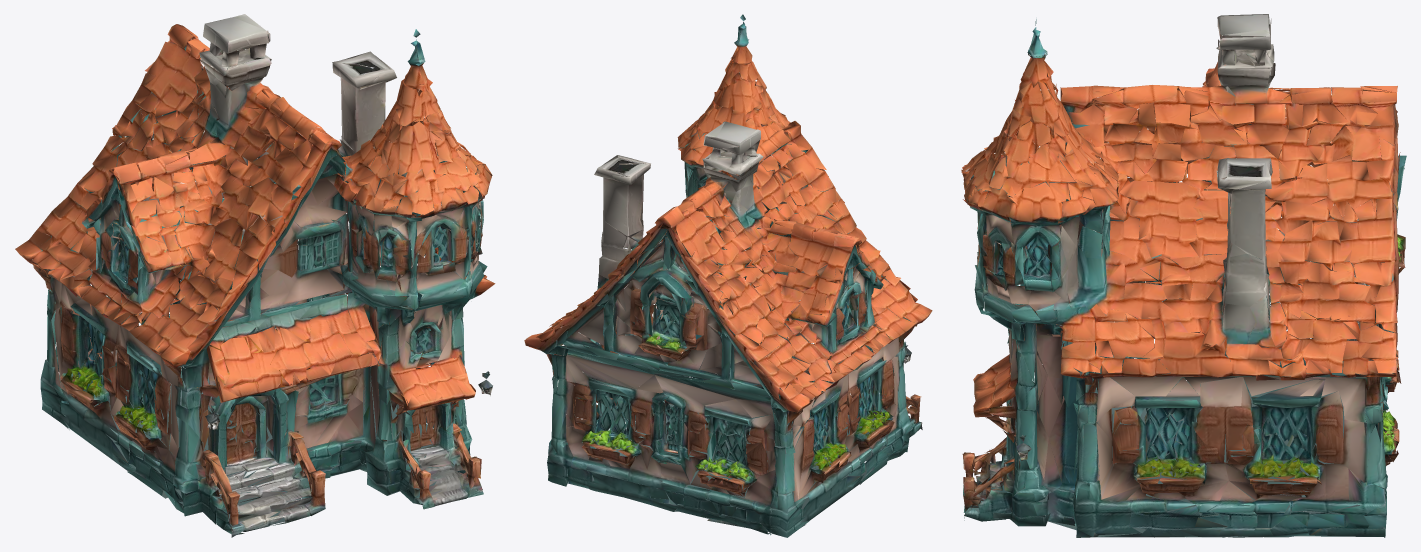
Rendered from Ember_Tiled_Turret_Ho_town.glb.
The picture shows the model from 3 angles, left to right: view 1: azimuth 30°, elevation 25°; view 2: azimuth 150°, elevation 25°; view 3: azimuth 270°, elevation 25°; orthographic projection. The views are drawn at different scales.
Visible parts, largest first — view 1: Ember_Tiled_Turret_Ho; view 2: Ember_Tiled_Turret_Ho; view 3: Ember_Tiled_Turret_Ho.
Part boxes in pixels (left/top/right/bottom): Ember_Tiled_Turret_Ho: left=15, top=14, right=495, bottom=537; Ember_Tiled_Turret_Ho: left=524, top=14, right=932, bottom=537; Ember_Tiled_Turret_Ho: left=961, top=14, right=1406, bottom=537.
Bounding box in the file's own units: 1.46 × 1.91 × 1.58.
Materials: 1 (1 with a texture image).
